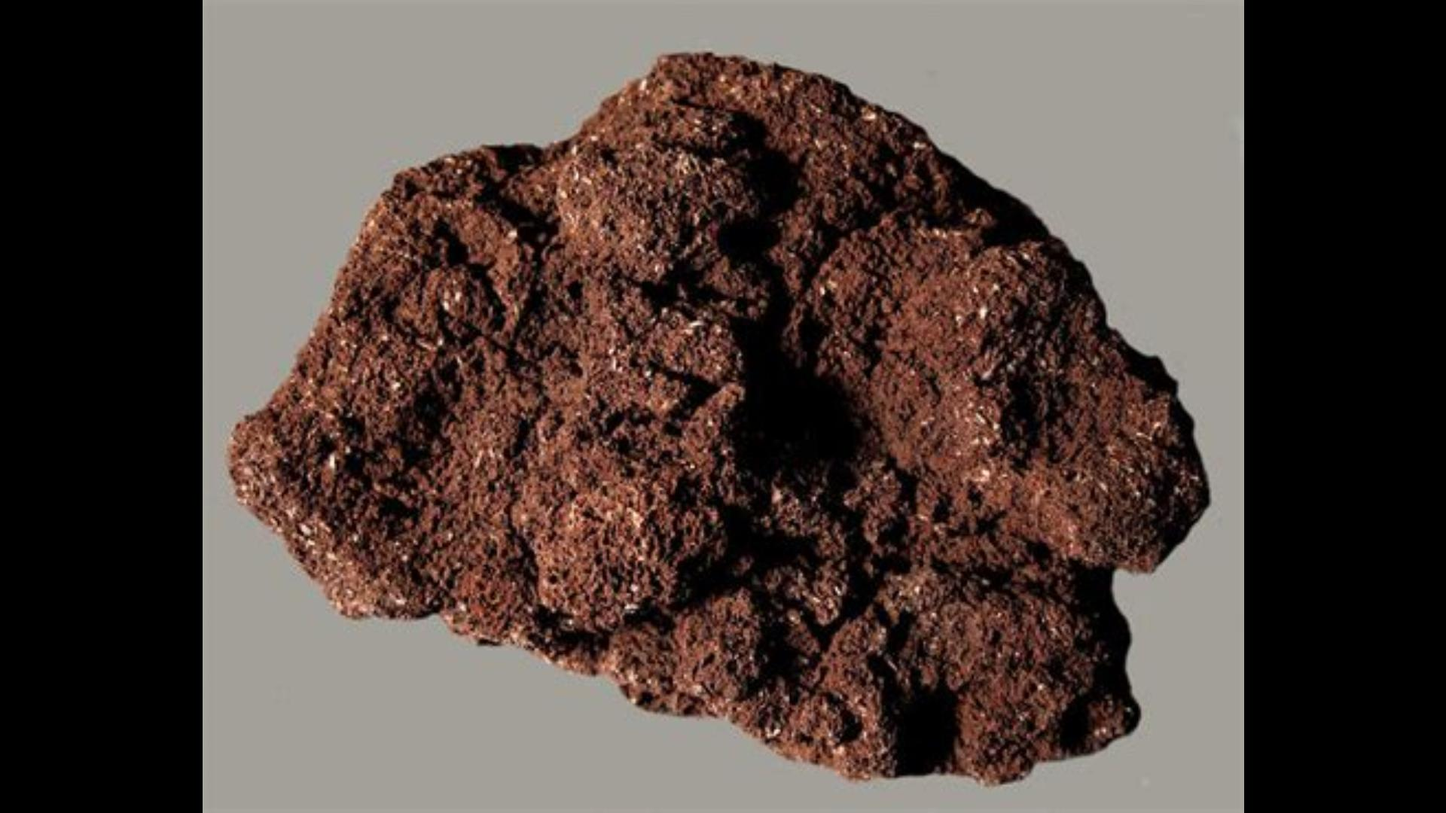rock: (235, 57, 1204, 778)
